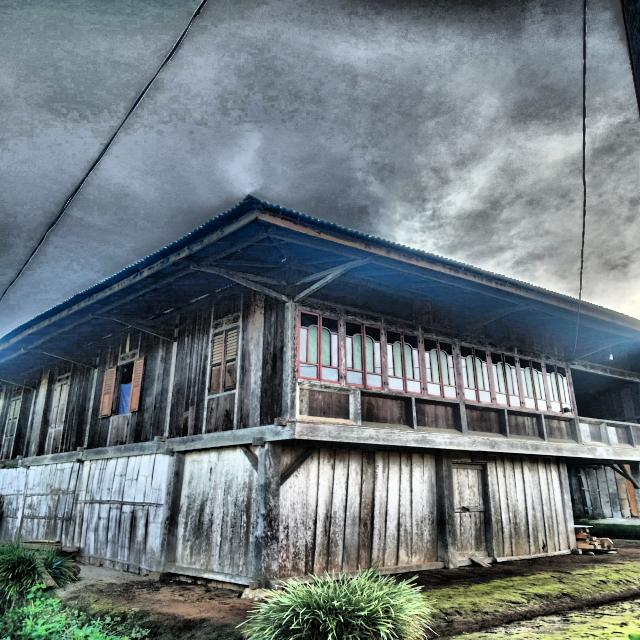door: (451, 461, 492, 560)
ornamen: (297, 382, 358, 424), (360, 390, 414, 429), (414, 397, 463, 434), (465, 404, 507, 438), (507, 409, 545, 441), (544, 414, 579, 444), (579, 419, 608, 445), (606, 422, 634, 448), (300, 300, 341, 316), (344, 308, 382, 324), (385, 318, 419, 332), (422, 326, 453, 339), (460, 335, 487, 347), (488, 341, 515, 353), (118, 349, 138, 365), (517, 348, 541, 359), (544, 354, 565, 364), (56, 372, 71, 384), (589, 364, 609, 373), (569, 360, 588, 369), (609, 368, 626, 377), (12, 389, 23, 399), (627, 372, 640, 379)
wall: (279, 448, 437, 578), (168, 287, 283, 439), (66, 453, 169, 567), (174, 445, 257, 577), (86, 327, 172, 449), (491, 457, 568, 557), (22, 360, 95, 458), (21, 461, 79, 546), (0, 381, 35, 460), (0, 467, 26, 542)
window: (297, 309, 342, 384), (98, 356, 146, 418), (345, 320, 385, 390), (385, 328, 423, 395), (207, 325, 239, 396), (423, 337, 459, 400), (458, 344, 494, 405), (489, 350, 523, 409), (518, 356, 550, 412), (544, 362, 574, 416), (48, 380, 70, 431), (5, 397, 21, 438)
